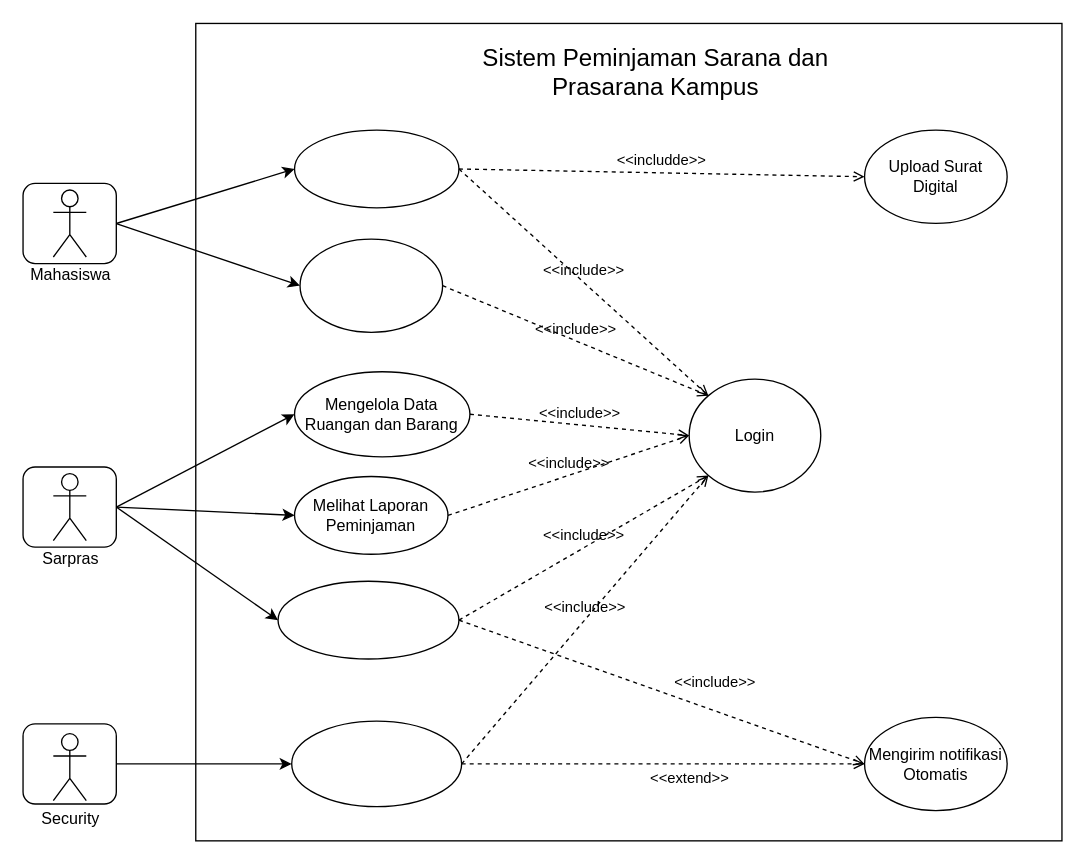
Image size: 1087x864. Some labels were removed from this diagram. The box of each missing label's shape, as (x1, y1, x2, y2) in pixels:
Melihat Jadwal Ruangan: (299, 238, 443, 332)
Mengajukan Peminjaman: (293, 129, 459, 208)
Verifikasi Kehadiran Peminjam: (290, 720, 462, 807)
Verifikasi Peminjaman: (277, 580, 459, 659)
